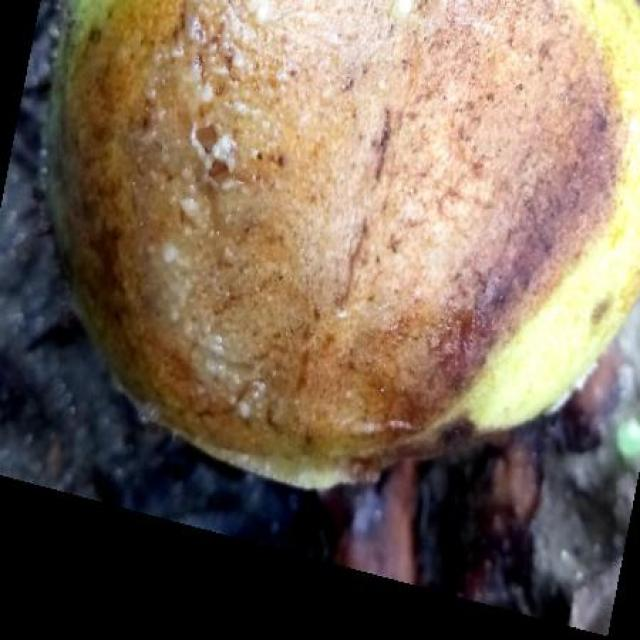Styler and Root: (61, 1, 622, 462)
